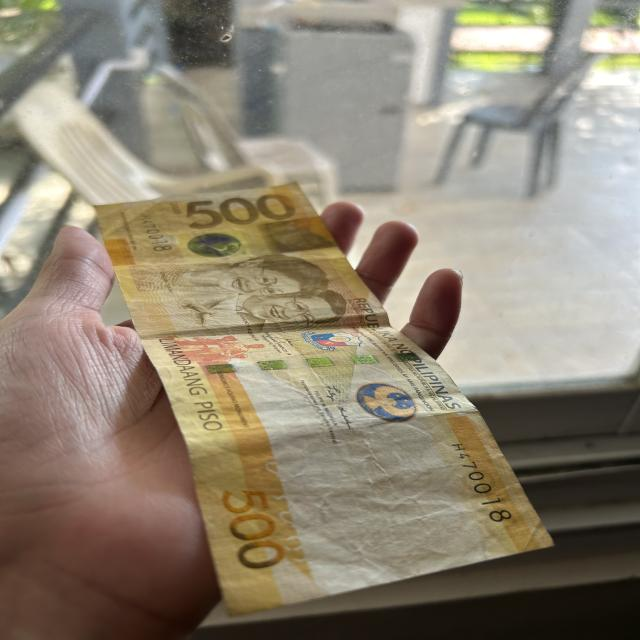concealed_value: (265, 220, 329, 251)
optically_variable_device: (184, 232, 243, 256)
value: (172, 192, 312, 226)
watermark: (266, 439, 486, 561)
